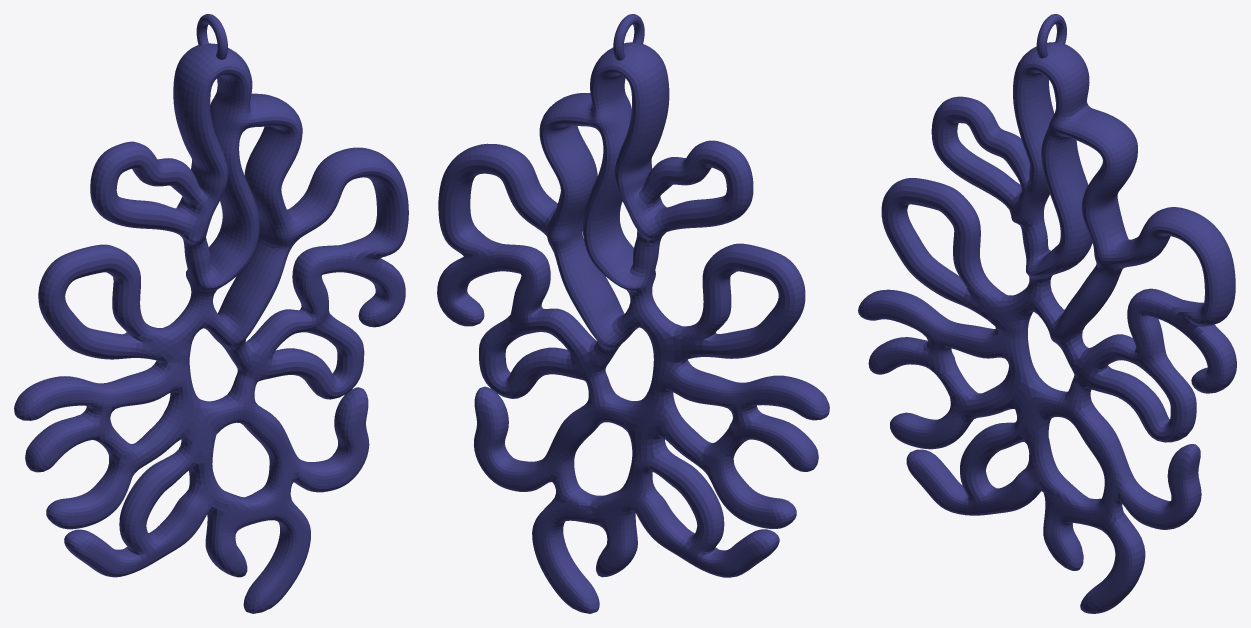
The model's file is abstract_pendant.glb.
3 views of the same model, side by side, from view 1: azimuth 30°, elevation 25°; view 2: azimuth 150°, elevation 25°; view 3: azimuth 330°, elevation 25° (orthographic). The views are drawn at different scales.
Size of the model in its own units: 4.73 by 7.08 by 0.6382.
